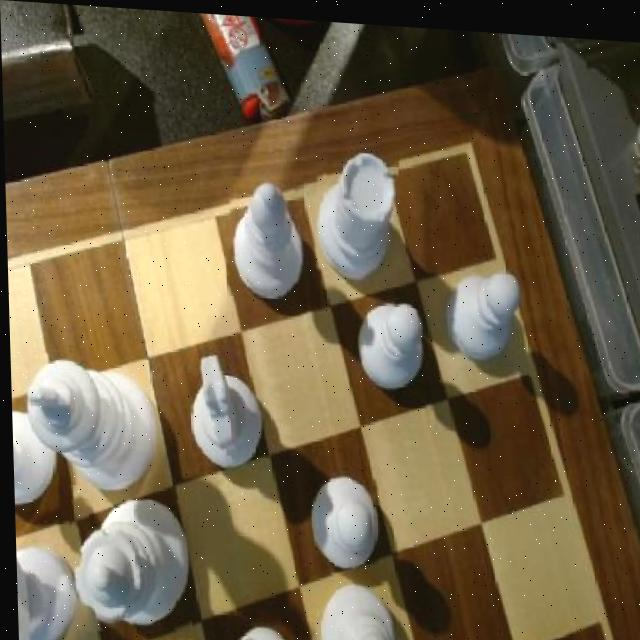black-rook: (225, 175, 305, 302), (313, 574, 390, 640)
white-bishop: (20, 353, 151, 489)
white-king: (184, 346, 263, 468), (13, 540, 71, 640)
white-knight: (440, 263, 523, 362), (305, 466, 377, 574), (353, 295, 423, 392)
white-pawn: (65, 495, 187, 635)
white-queen: (311, 144, 398, 278)
